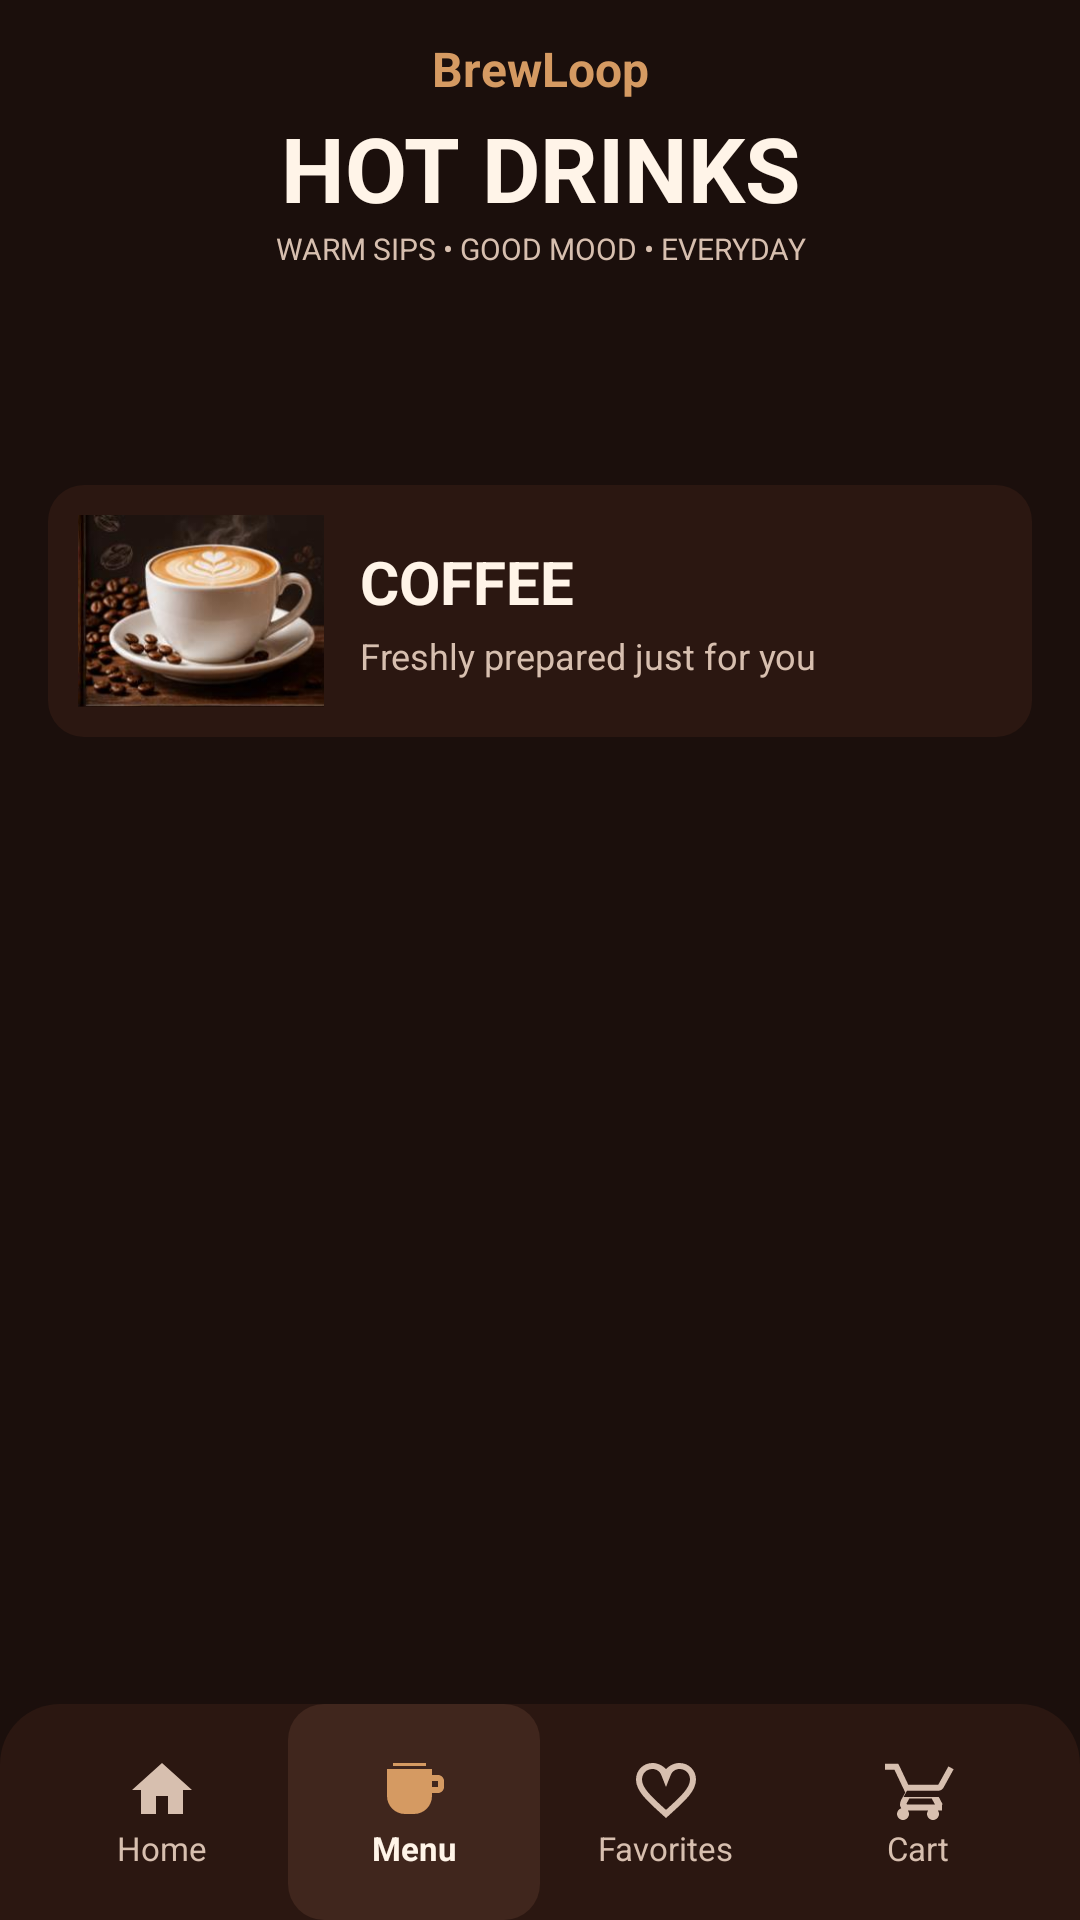

Named icons in this screenshot (1080px×1920px) and their bounding boxes, box(x1, y1, x2, y2):
cup: box(387, 1763, 444, 1814)
